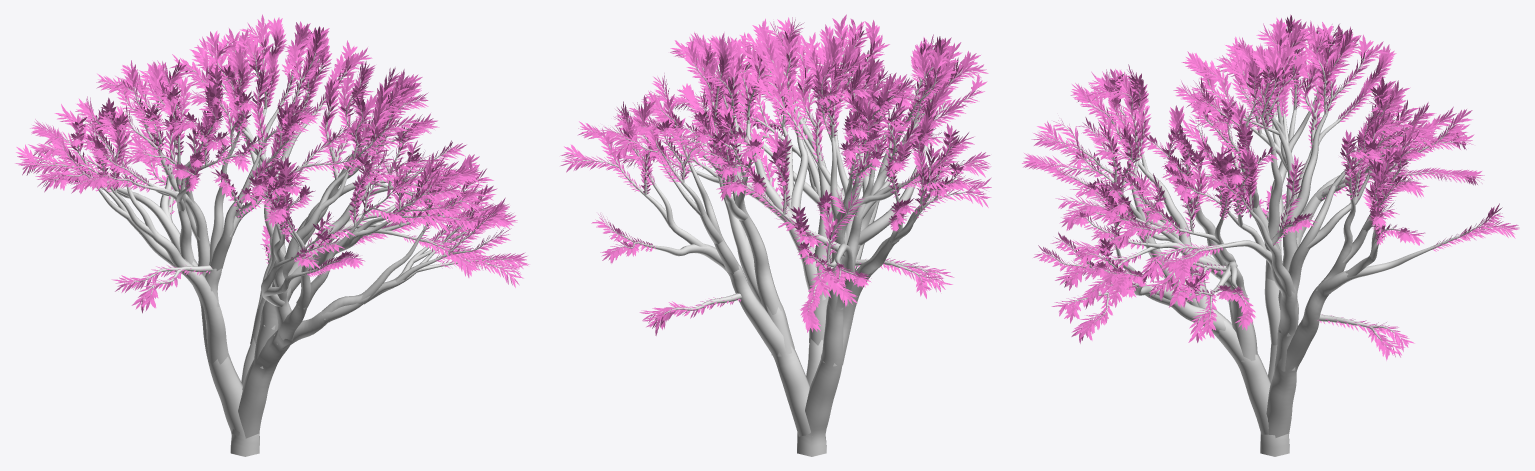
The model's file is Cherry tree.fbx.
3 views of the same model, side by side, from view 1: azimuth 30°, elevation 25°; view 2: azimuth 150°, elevation 25°; view 3: azimuth 270°, elevation 25° (orthographic).
Parts seen in each view (by area): view 1: leaves, tree; view 2: leaves, tree; view 3: leaves, tree.
Boxes of the visible parts, bbox=[...] form: leaves: bbox=[15, 14, 529, 313]; tree: bbox=[30, 28, 513, 456]; leaves: bbox=[560, 14, 991, 335]; tree: bbox=[575, 30, 978, 456]; leaves: bbox=[1022, 14, 1519, 360]; tree: bbox=[1040, 35, 1503, 456].
Bounding box in the file's own units: 982 × 907 × 1039.
